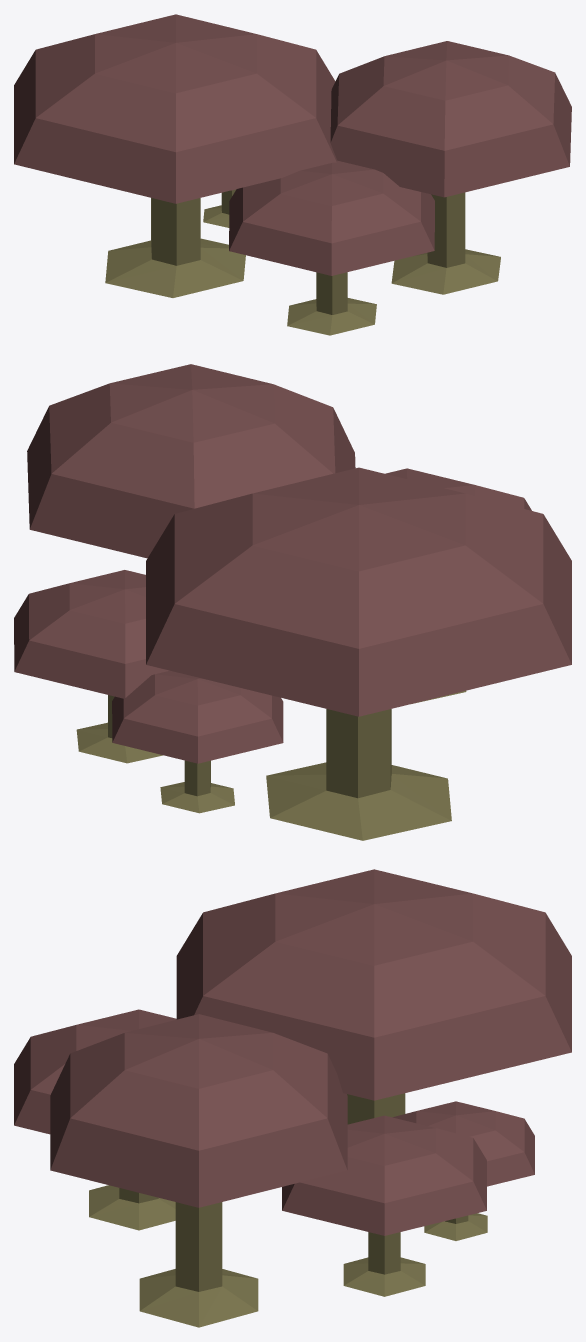
File: shrooms.fbx
3 views of the same model, one above another, from view 1: azimuth 30°, elevation 25°; view 2: azimuth 150°, elevation 25°; view 3: azimuth 270°, elevation 25° (orthographic). The views are drawn at different scales.
Parts seen in each view (by area): view 1: pSphere2, pSphere3, pSphere4, pSphere6; view 2: pSphere2, pSphere3, pSphere5, pSphere6, pSphere4; view 3: pSphere2, pSphere3, pSphere5, pSphere4, pSphere6.
Boxes of the visible parts, x1,y1,x2,y2 form: pSphere2: (14, 14, 337, 297); pSphere3: (330, 41, 571, 294); pSphere4: (229, 160, 434, 335); pSphere6: (203, 189, 236, 227); pSphere2: (146, 467, 571, 840); pSphere3: (27, 364, 355, 558); pSphere5: (14, 570, 169, 763); pSphere6: (112, 670, 283, 813); pSphere4: (385, 468, 531, 703); pSphere2: (176, 869, 571, 1124); pSphere3: (50, 1014, 347, 1327); pSphere5: (282, 1115, 486, 1296); pSphere4: (14, 1009, 176, 1230); pSphere6: (393, 1101, 534, 1240).
Bounding box in the file's own units: 3 × 1.32 × 2.44.
